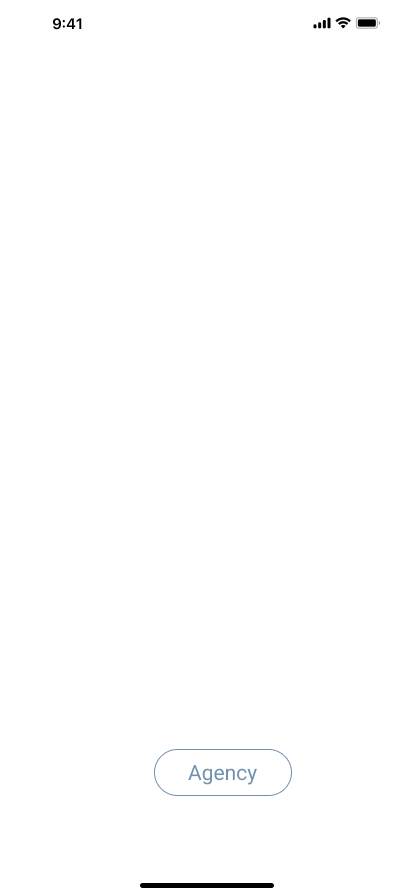Buttons: (154, 749, 300, 796)
Home Indicator: (0, 862, 414, 896)
Status Bar: (0, 0, 414, 44)
